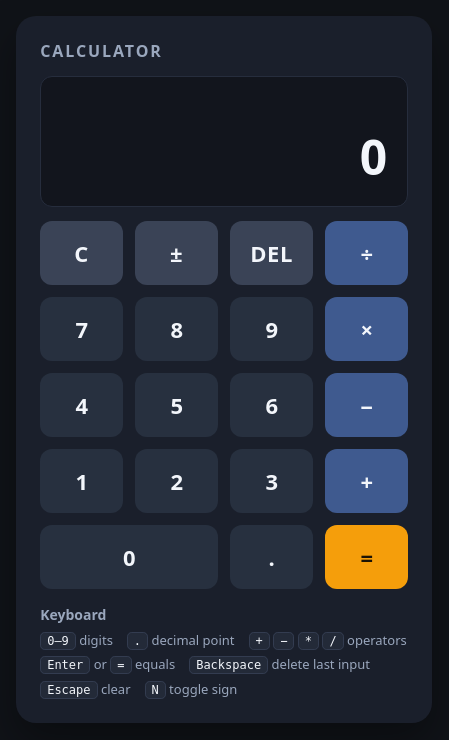
Test: App › announces operator replacement through the live expression even when the value does not change
What coordinates should you click on to do the following:
click the button "1"
I would click on:
 (82, 481)
Its box is [40,449,123,513].
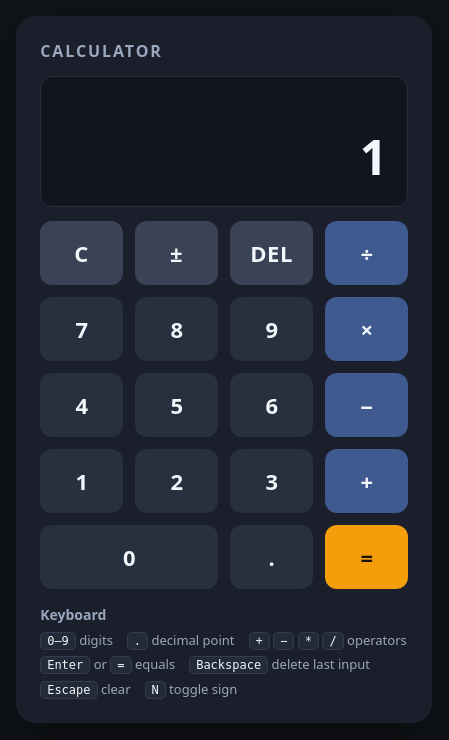
What coordinates should you click on to do the following:
click the button named "add"
I would click on:
 (367, 481)
Its box is [325,449,408,513].
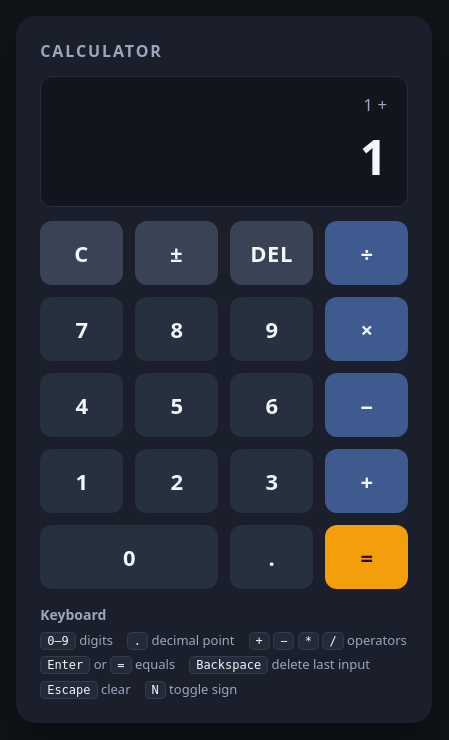
Result: the text named "Expression" reads "1 +" at [363,93,387,116]
What coordinates should you click on to do the following:
click the button named "subtract"
I would click on:
 (367, 405)
Its box is [325,373,408,437].
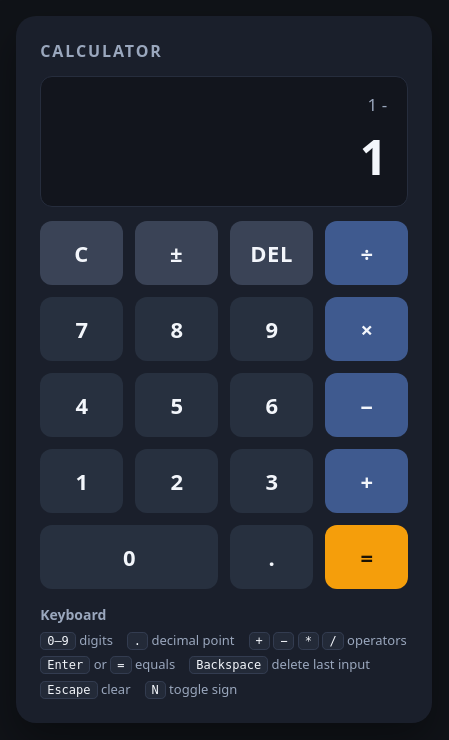
Result: the message reads "1" at [360,124,387,189]
Result: the text named "Expression" reads "1 -" at [368,93,387,116]
